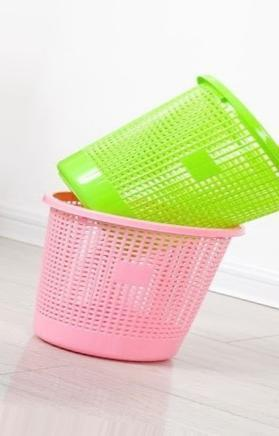Bote de Basura: (38, 194, 247, 370), (54, 82, 278, 230)
